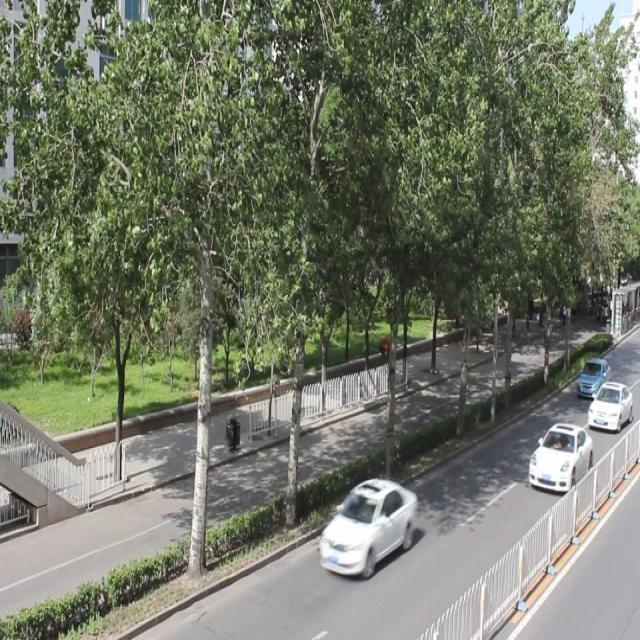car: (317, 476, 416, 576), (526, 419, 591, 494), (585, 380, 640, 432), (575, 358, 609, 398)
